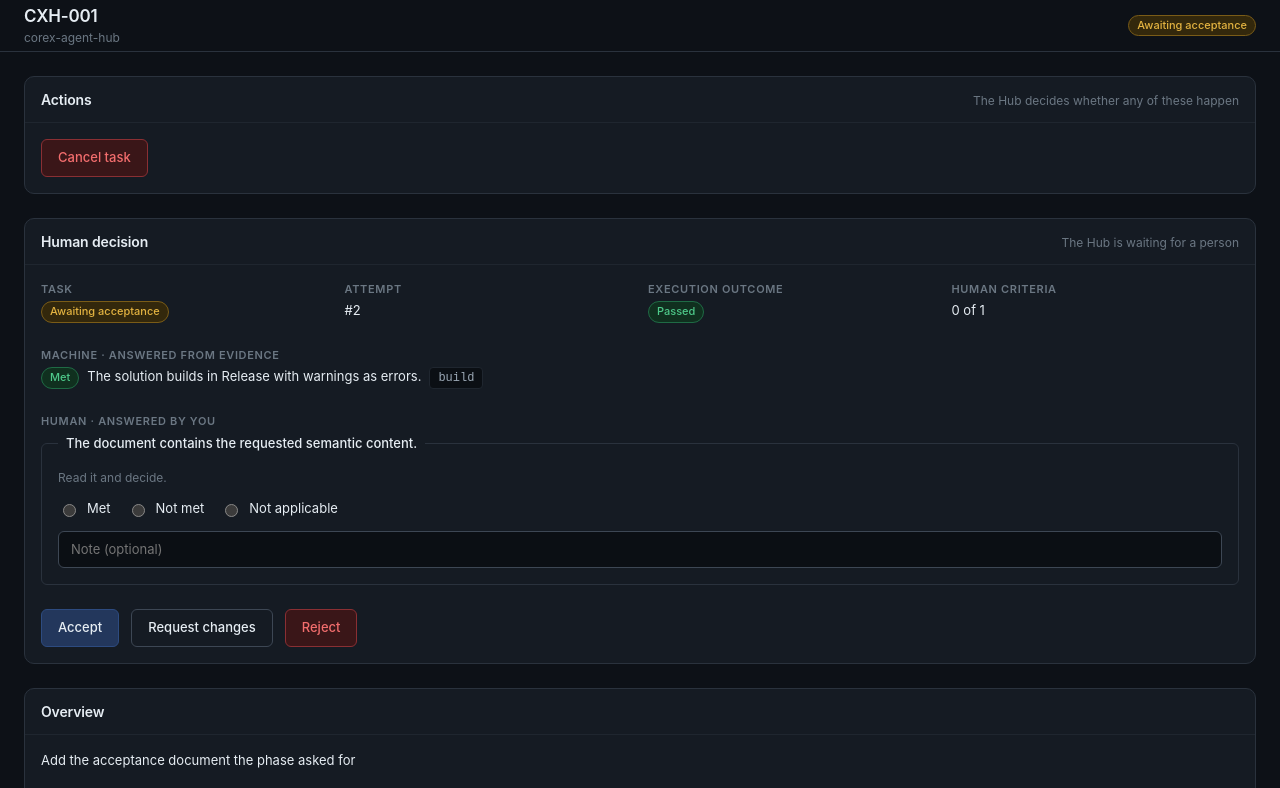
it: Human governance › says what accepting does not do before it does it
Click the radio button labelled "Met".
click(70, 510)  # box [63,504,76,517]
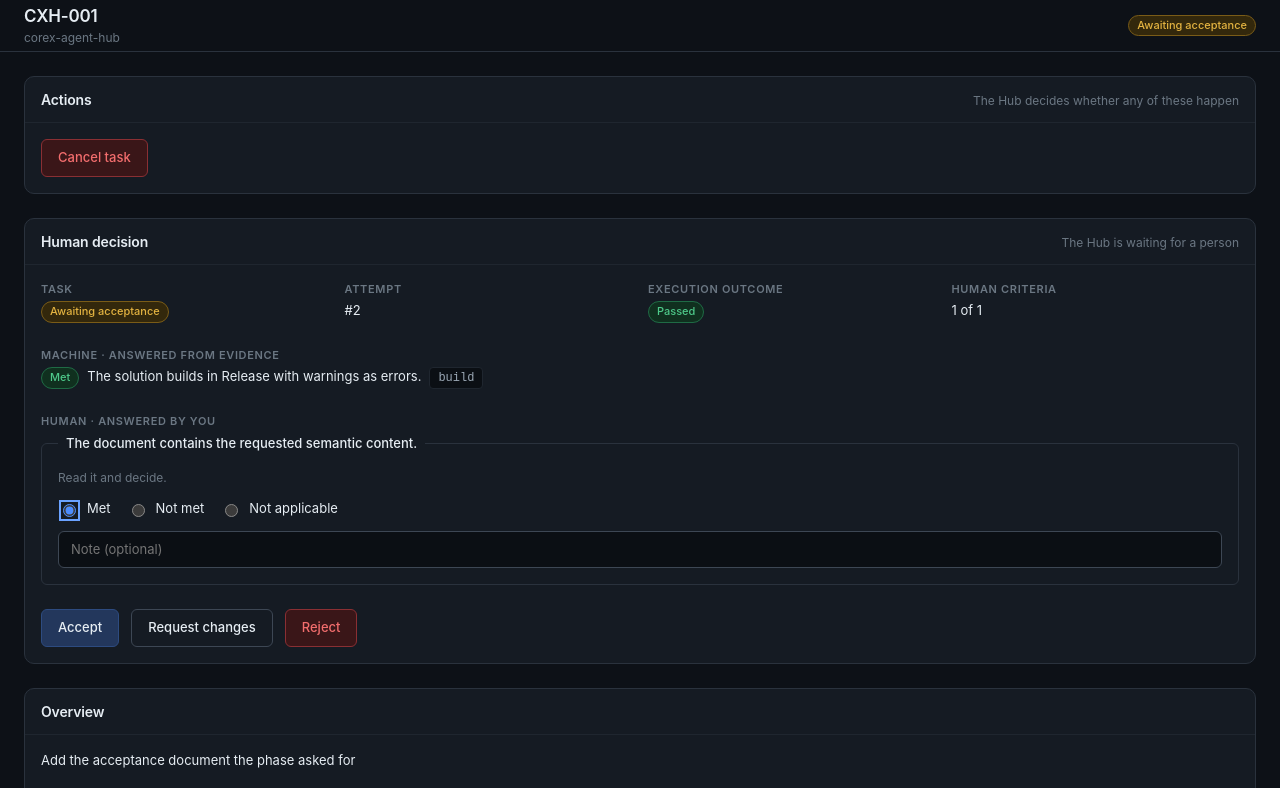
Click the button "Accept".
click(80, 628)  # box [41,609,119,647]
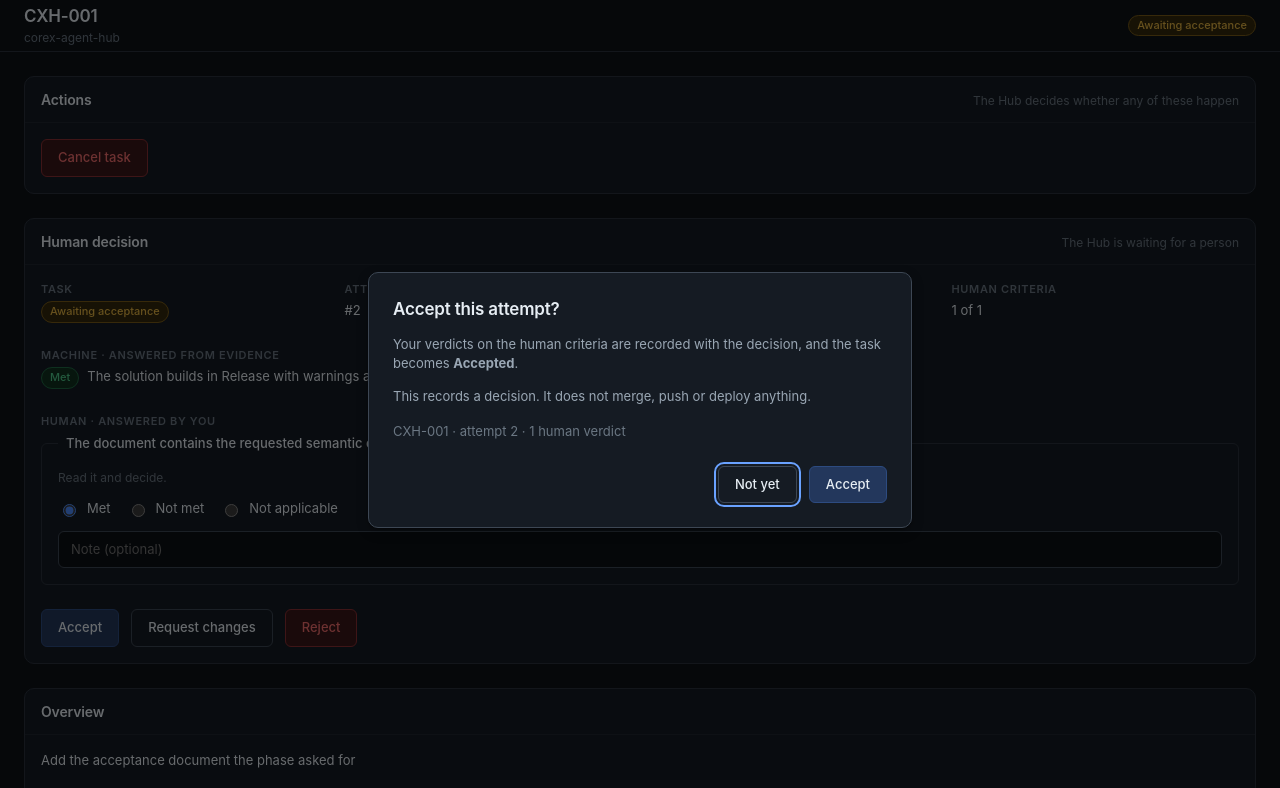
Now the text "does not merge, push or deploy" is shown, box [393,388,811,404]
